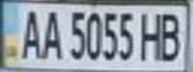0: (84, 8, 103, 61)
5: (63, 7, 87, 61), (115, 8, 139, 61), (103, 8, 121, 61)
A: (15, 4, 45, 61), (36, 6, 63, 61)
B: (157, 9, 187, 62)
H: (136, 8, 166, 62)
